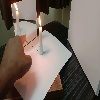fire: (37, 15, 42, 28)
